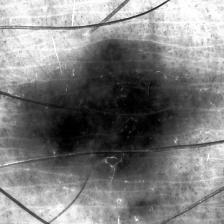Benign Marking or Mole: (20, 42, 198, 163)
